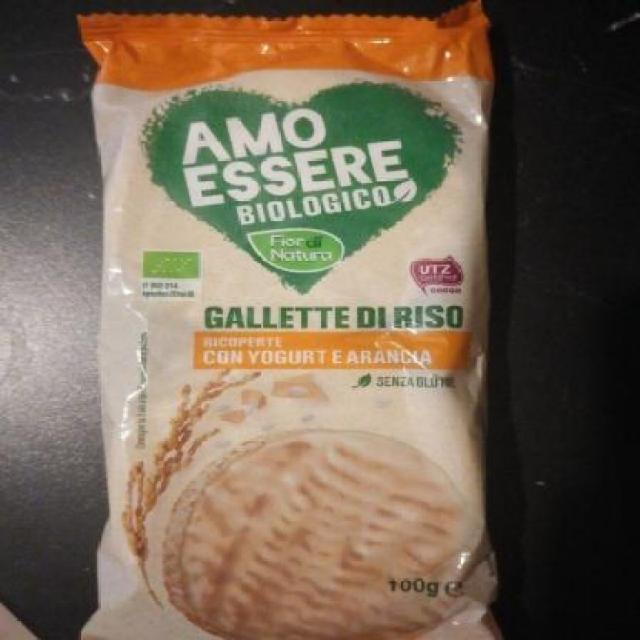Gallette di riso: (68, 9, 512, 640)
